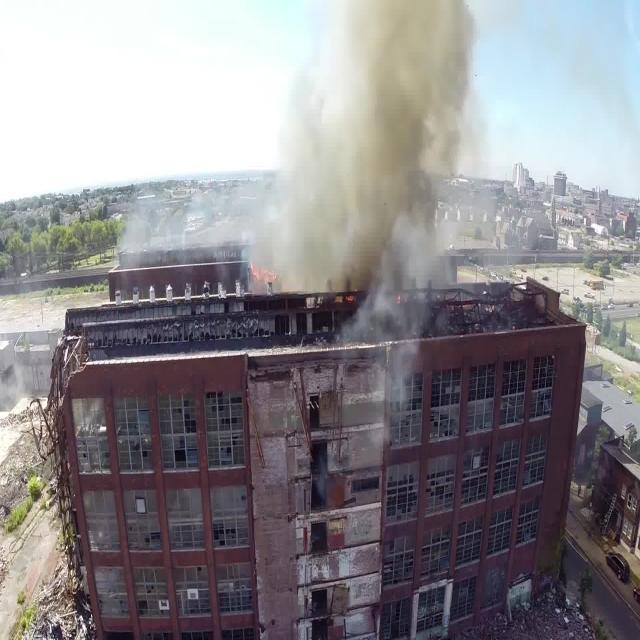Smoke: (269, 0, 469, 333)
